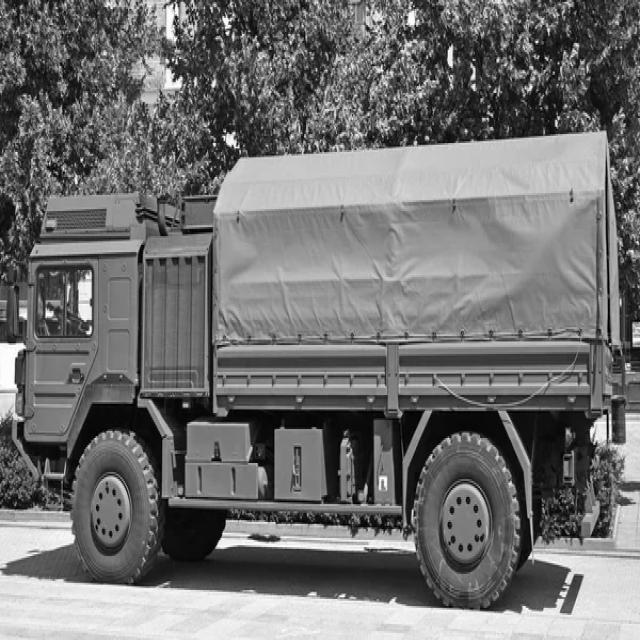Truck: (12, 132, 622, 607)
